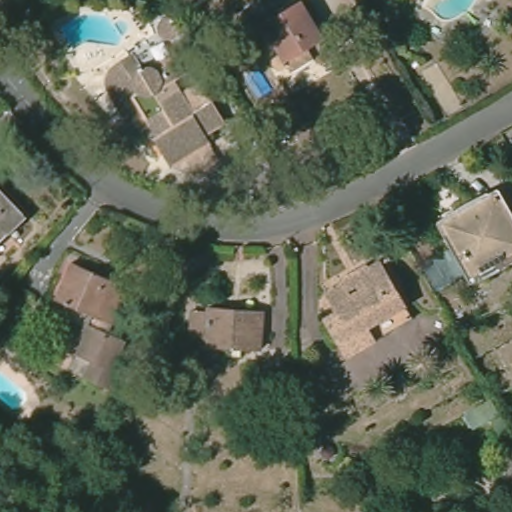pool: (50, 10, 135, 55), (1, 365, 33, 417), (421, 1, 483, 23)
